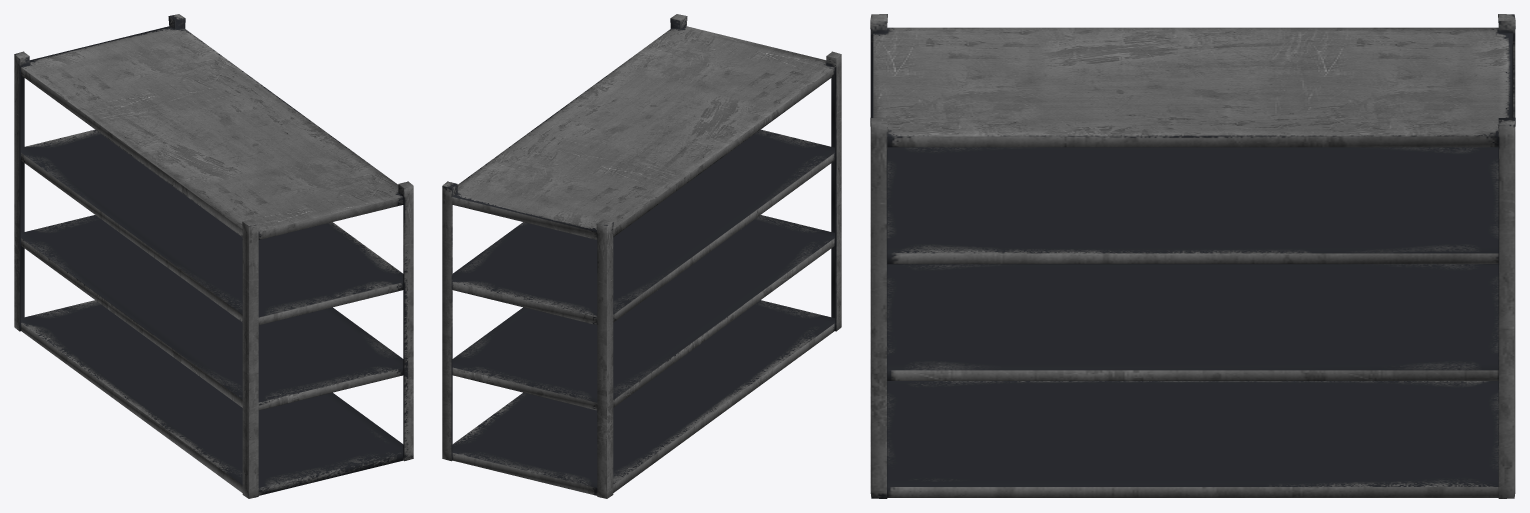
Rendered from rack_01.gltf.
The picture shows the model from 3 angles, left to right: view 1: azimuth 30°, elevation 25°; view 2: azimuth 150°, elevation 25°; view 3: azimuth 270°, elevation 25°; orthographic projection. The views are drawn at different scales.
Visible parts, largest first — view 1: rack_01; view 2: rack_01; view 3: rack_01.
Boxes of the visible parts, x1,y1,x2,y2 form: rack_01: [14, 14, 413, 498]; rack_01: [442, 14, 841, 498]; rack_01: [870, 14, 1515, 498].
Size of the model in its own units: 2.04 by 3.2 by 5.01.
1 material, 1 textured.
